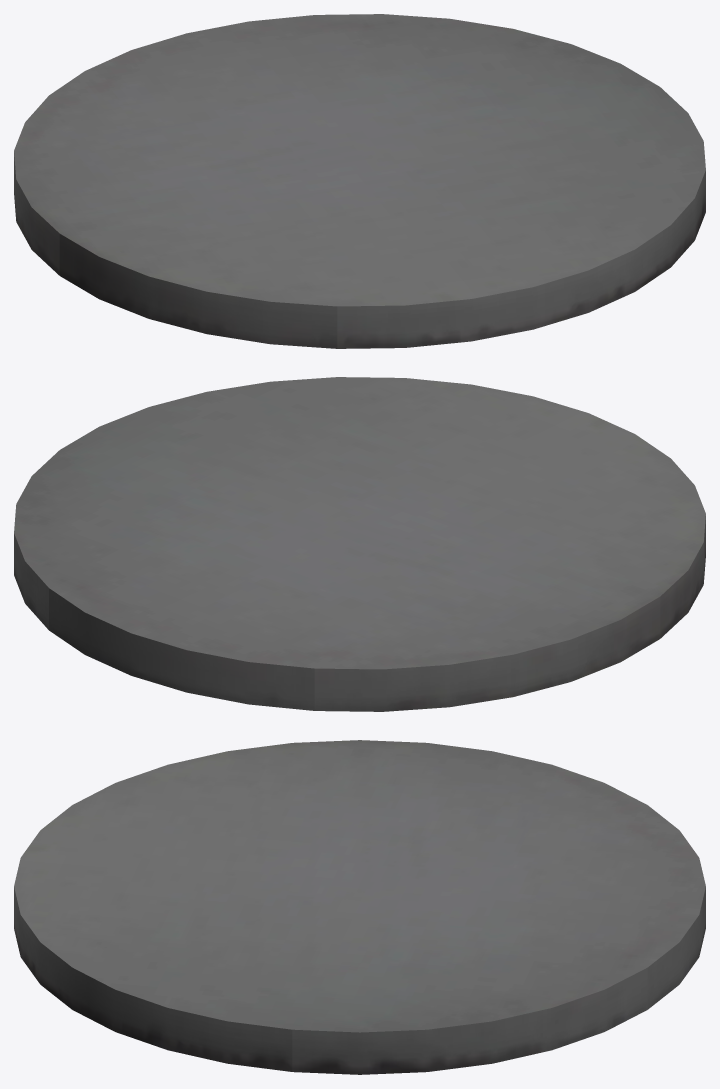
The model's file is right_reel__front_ring.glb.
3 renders of one model, top to bottom at view 1: azimuth 30°, elevation 25°; view 2: azimuth 150°, elevation 25°; view 3: azimuth 270°, elevation 25°, orthographic.
Parts seen in each view (by area): view 1: world; view 2: world; view 3: world.
Boxes of the visible parts, x1,y1,x2,y2 form: world: (14,14,705,348); world: (14,377,705,711); world: (14,740,705,1074).
Bounding box in the file's own units: 0.148 × 0.01 × 0.148.
1 material, 1 textured.
